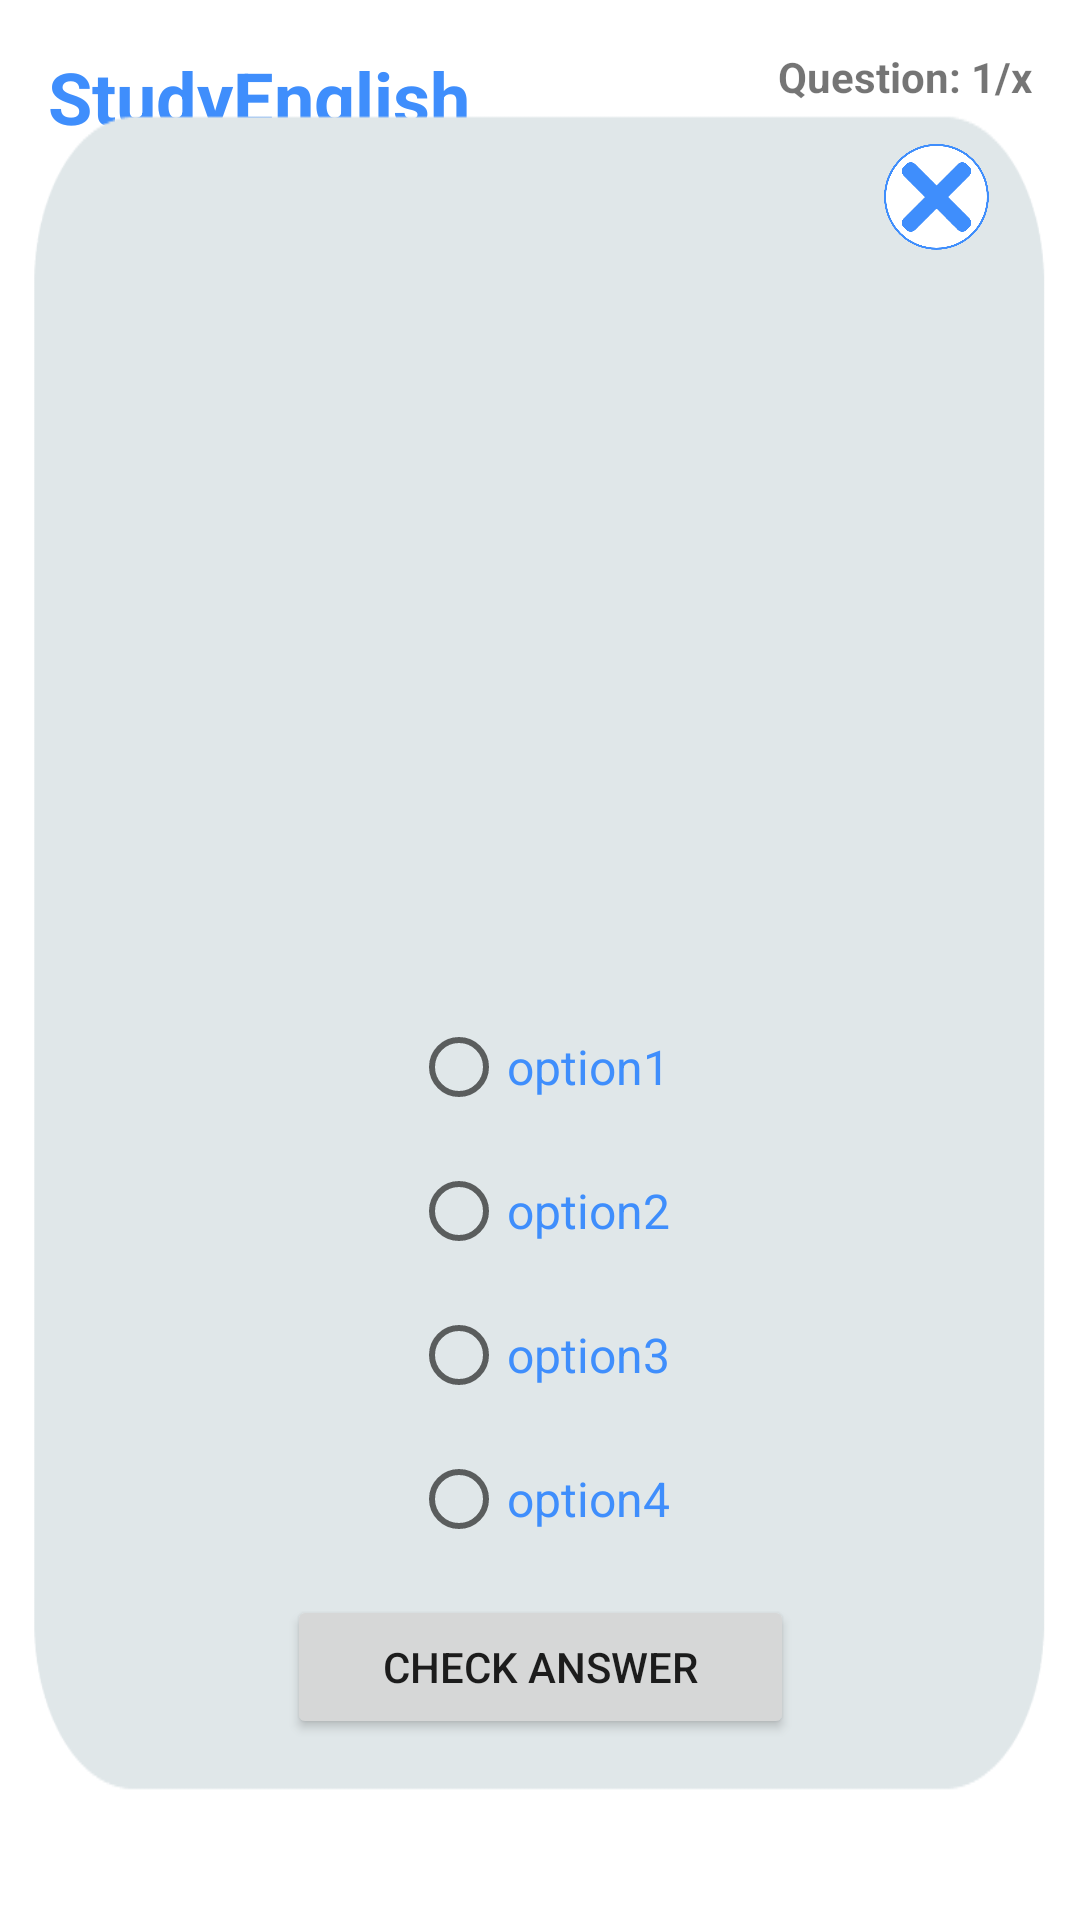

Icons on this 1080px x 1920px Android screen, each with its box as (x1, y1, x2, y2):
close: (884, 144, 989, 250)
